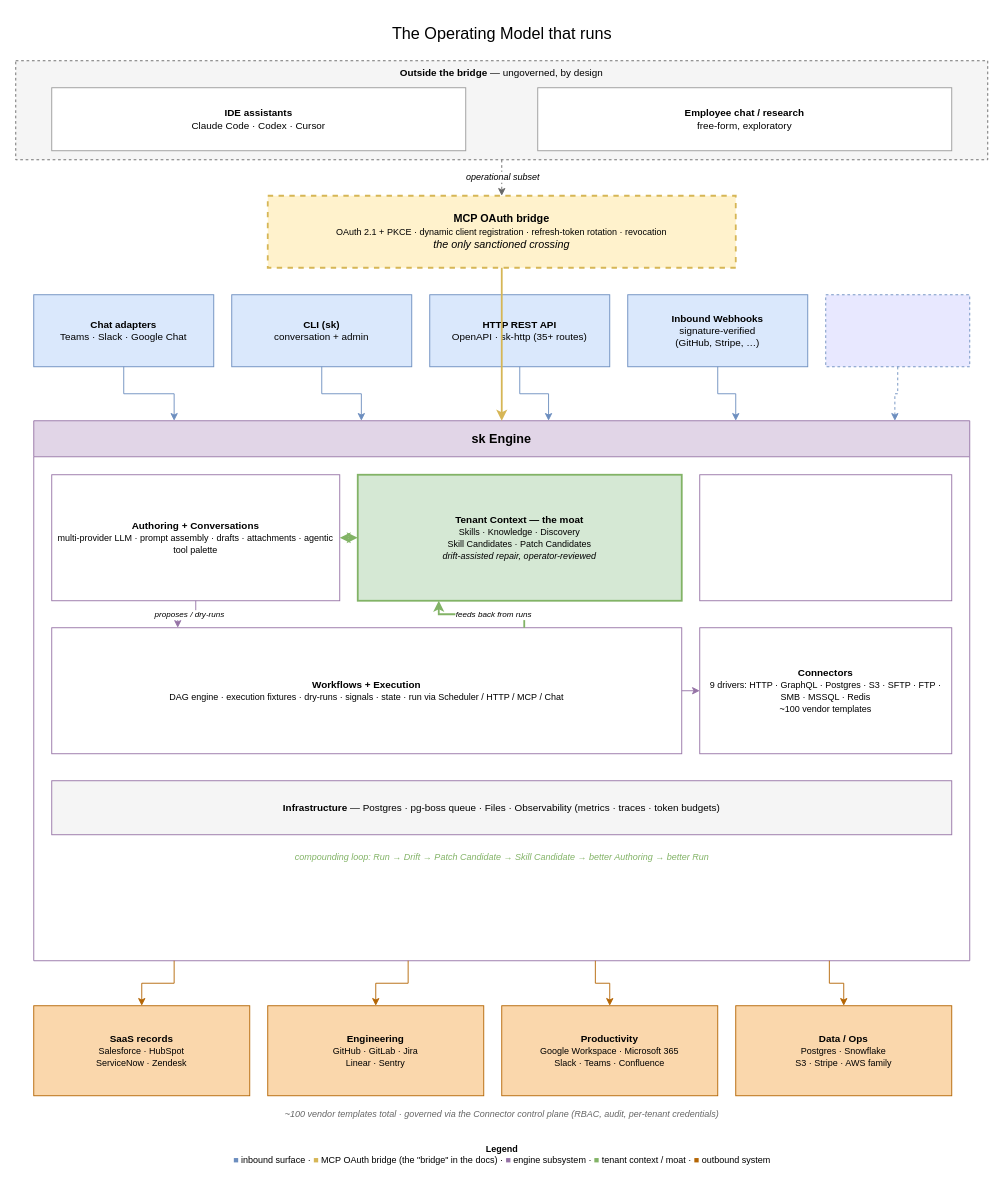
The diagram is 1004 pixels wide and 1192 high, and some of its shapes have lost their labels. The centre of each missing label's shape, as x and y in pixels:
"Governance RBAC · Identity · Credentials API keys · Portal tokens · Audit" goes at pixel 825 537.
"Scheduler (cron) internal trigger" goes at pixel 897 330.
